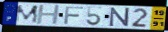2: (132, 8, 150, 28)
5: (86, 5, 106, 27)
F: (63, 6, 85, 25)
H: (36, 5, 62, 25)
M: (14, 4, 40, 24)
N: (109, 7, 130, 27)
